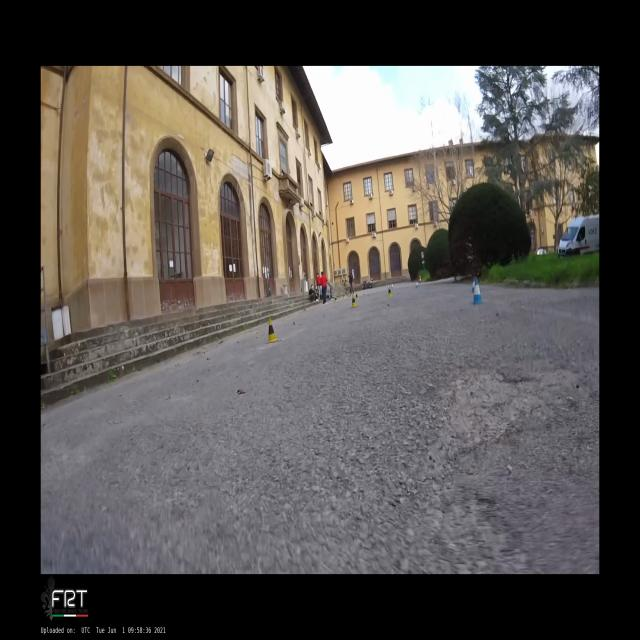blue_cone: (472, 278, 483, 304), (471, 277, 475, 293), (416, 280, 418, 288), (388, 284, 390, 290), (392, 284, 393, 288)
large_orange_cone: (418, 274, 422, 283)
yellow_cone: (266, 318, 278, 343), (351, 294, 358, 308), (388, 286, 392, 298), (356, 293, 358, 300), (335, 296, 337, 302), (343, 293, 345, 299)
